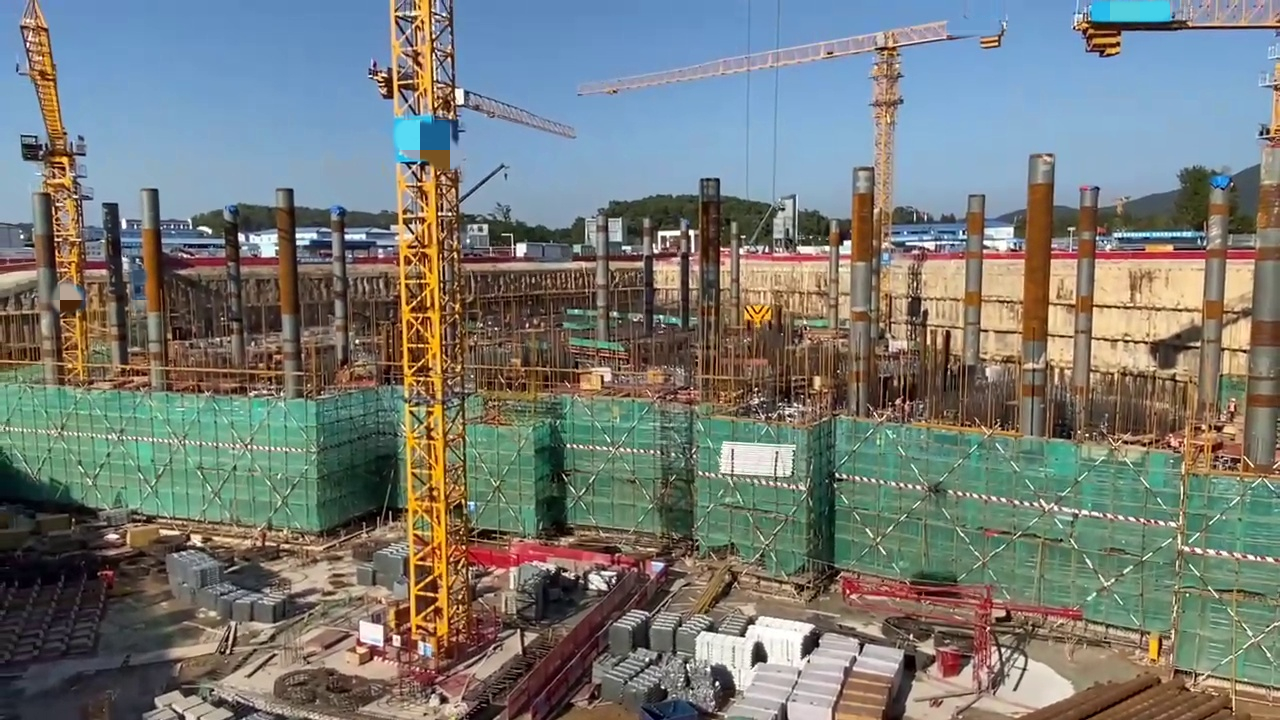board: (836, 671, 887, 720)
fence: (509, 539, 606, 566), (467, 545, 512, 565)
hook: (743, 302, 772, 322)
rebar: (1013, 672, 1234, 720)
scaffold: (598, 651, 731, 709), (166, 548, 222, 612), (201, 579, 293, 617), (745, 615, 811, 664), (715, 440, 798, 477), (696, 632, 753, 680), (374, 539, 410, 592), (612, 606, 647, 656), (680, 617, 715, 654), (652, 611, 685, 650)
